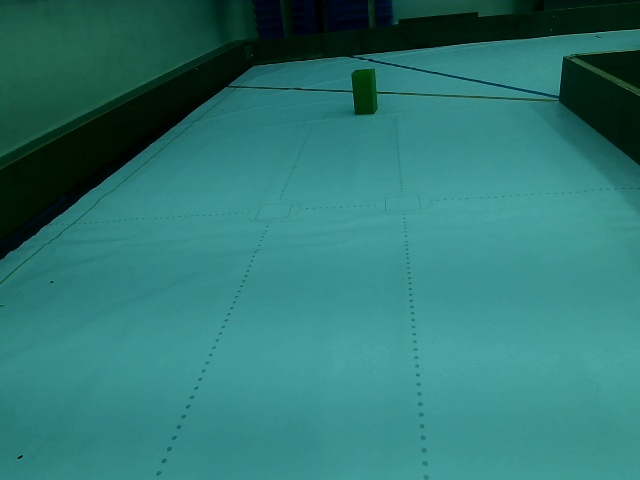green: (352, 67, 378, 115)
